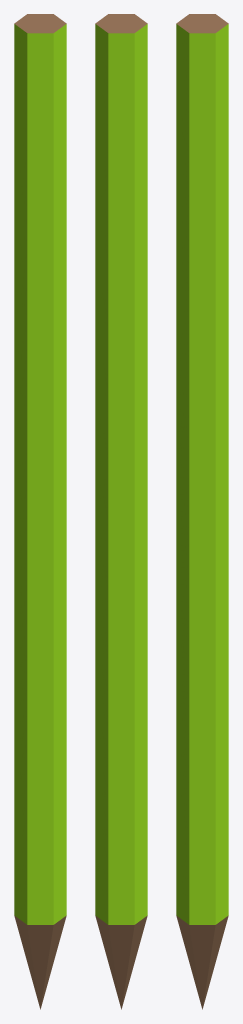
The model's file is pen4.fbx.
The picture shows the model from 3 angles, left to right: view 1: azimuth 90°, elevation 25°; view 2: azimuth 150°, elevation 25°; view 3: azimuth 270°, elevation 25°; orthographic projection.
Visible parts, largest first — view 1: Cylinder; view 2: Cylinder; view 3: Cylinder.
Boxes of the visible parts, x1,y1,x2,y2 form: Cylinder: (14,14,66,1009); Cylinder: (95,14,147,1009); Cylinder: (176,14,228,1009).
Size of the model in its own units: 0.0316 by 0.7555 by 0.0365.
